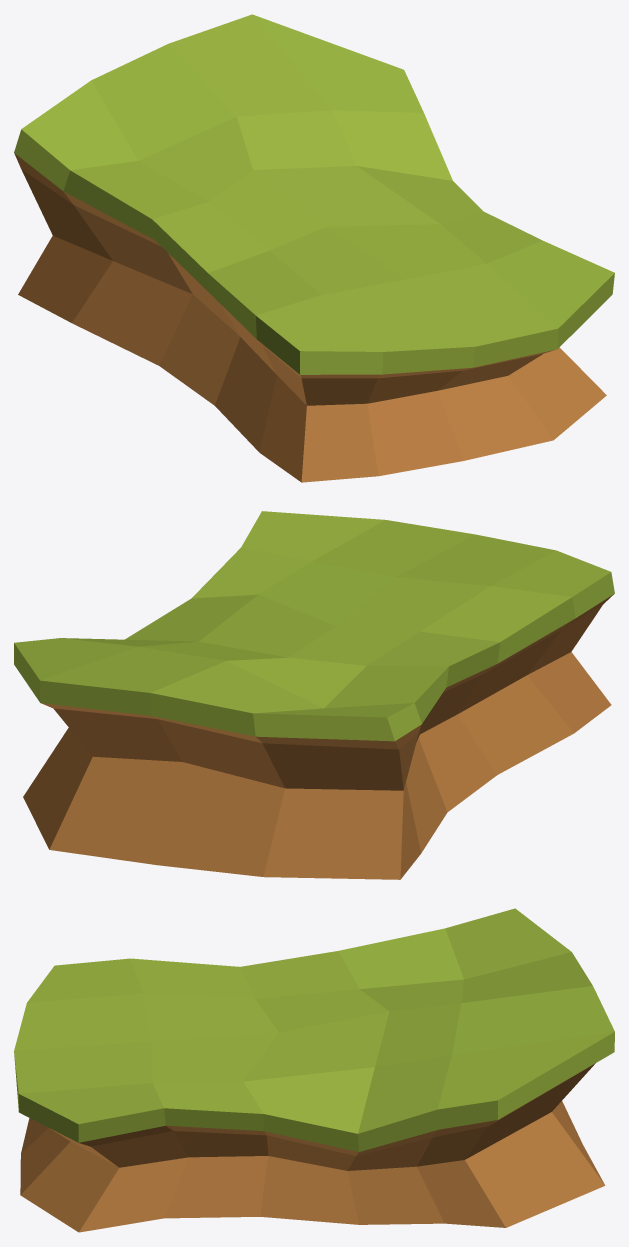
The model's file is drn_textured4.fbx.
The picture shows the model from 3 angles, top to bottom: view 1: azimuth 30°, elevation 25°; view 2: azimuth 150°, elevation 25°; view 3: azimuth 270°, elevation 25°; orthographic projection. The views are drawn at different scales.
Parts seen in each view (by area): view 1: JaynamLowPolyTerrain_drny_rozdelane:pCube9; view 2: JaynamLowPolyTerrain_drny_rozdelane:pCube9; view 3: JaynamLowPolyTerrain_drny_rozdelane:pCube9.
Part boxes in pixels (x1,y1,x2,y2): JaynamLowPolyTerrain_drny_rozdelane:pCube9: (14, 14, 614, 482); JaynamLowPolyTerrain_drny_rozdelane:pCube9: (14, 511, 614, 879); JaynamLowPolyTerrain_drny_rozdelane:pCube9: (14, 908, 614, 1232).
Size of the model in its own units: 0.7711 by 0.3647 by 1.14.
